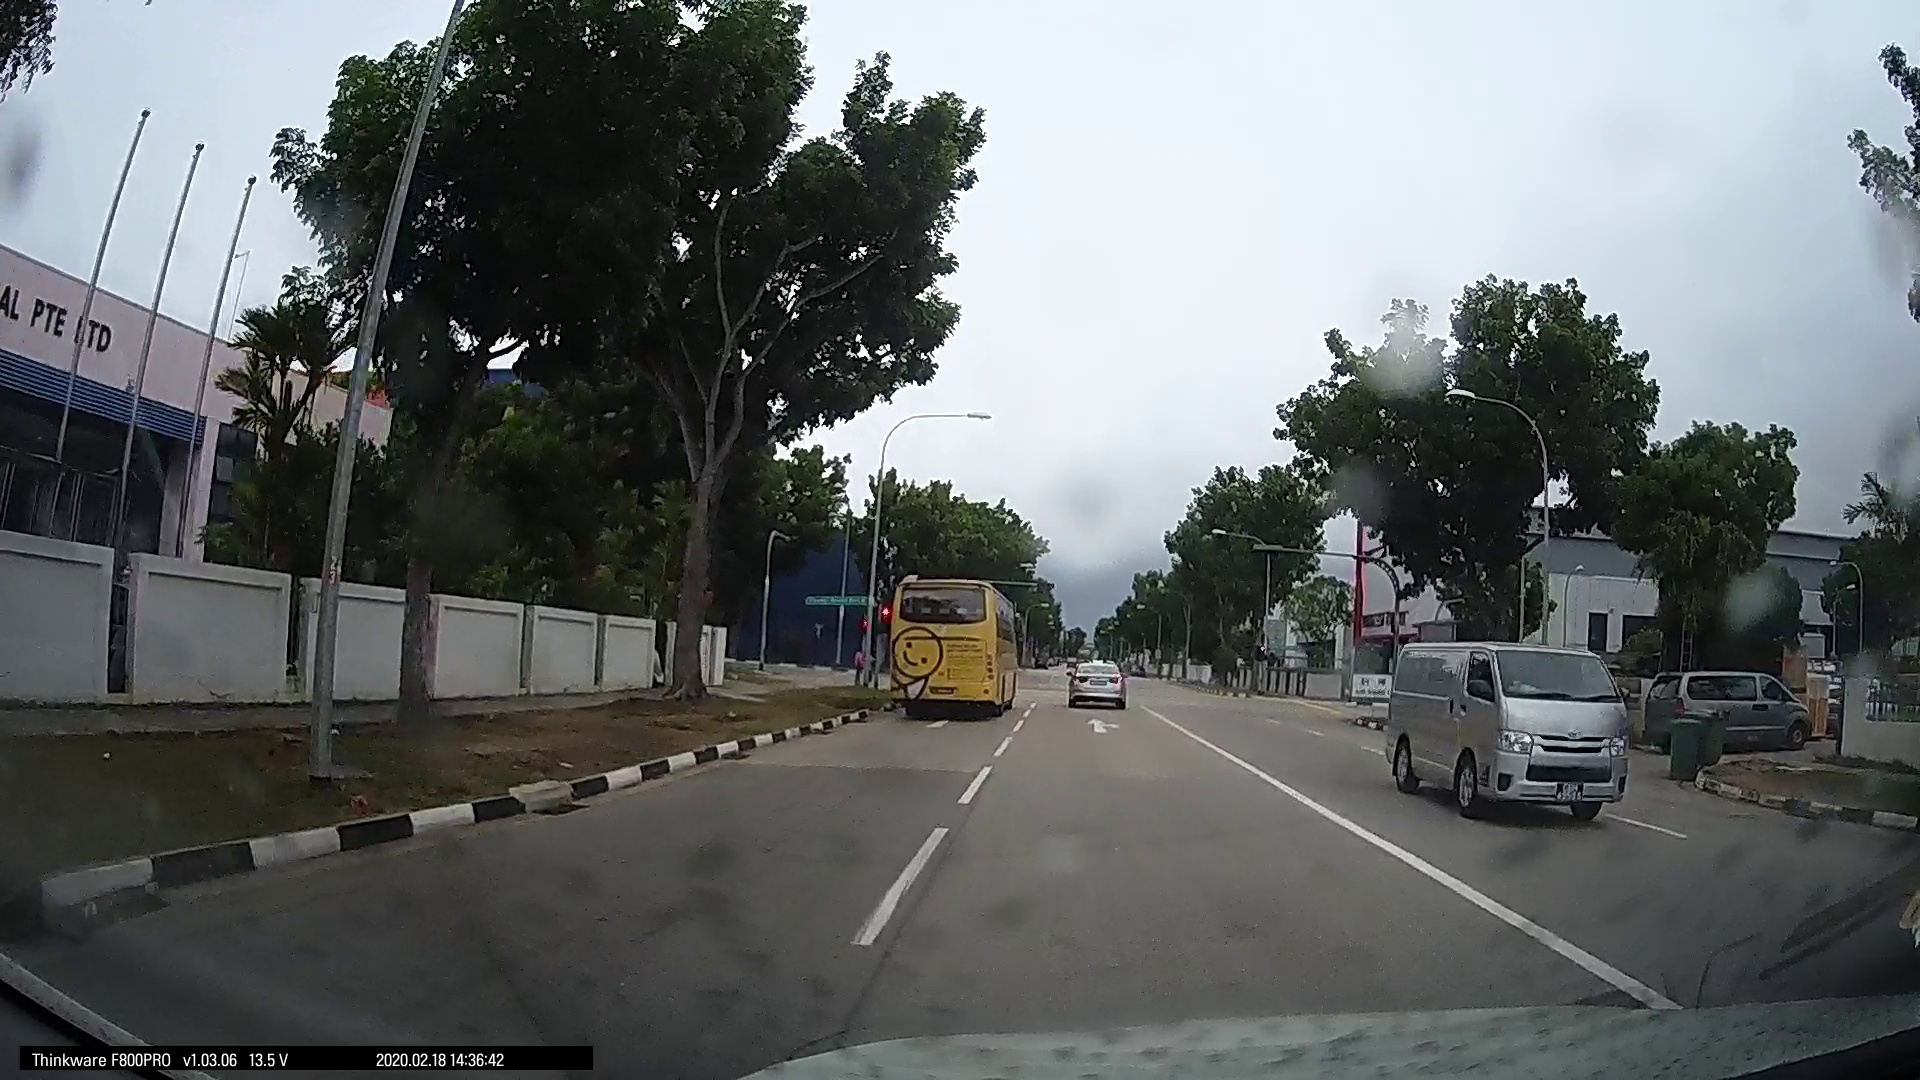Heavy Vehicle: (882, 568, 1018, 729)
Light Vehicle: (1371, 633, 1629, 824), (1638, 662, 1808, 754), (1062, 654, 1127, 712)
